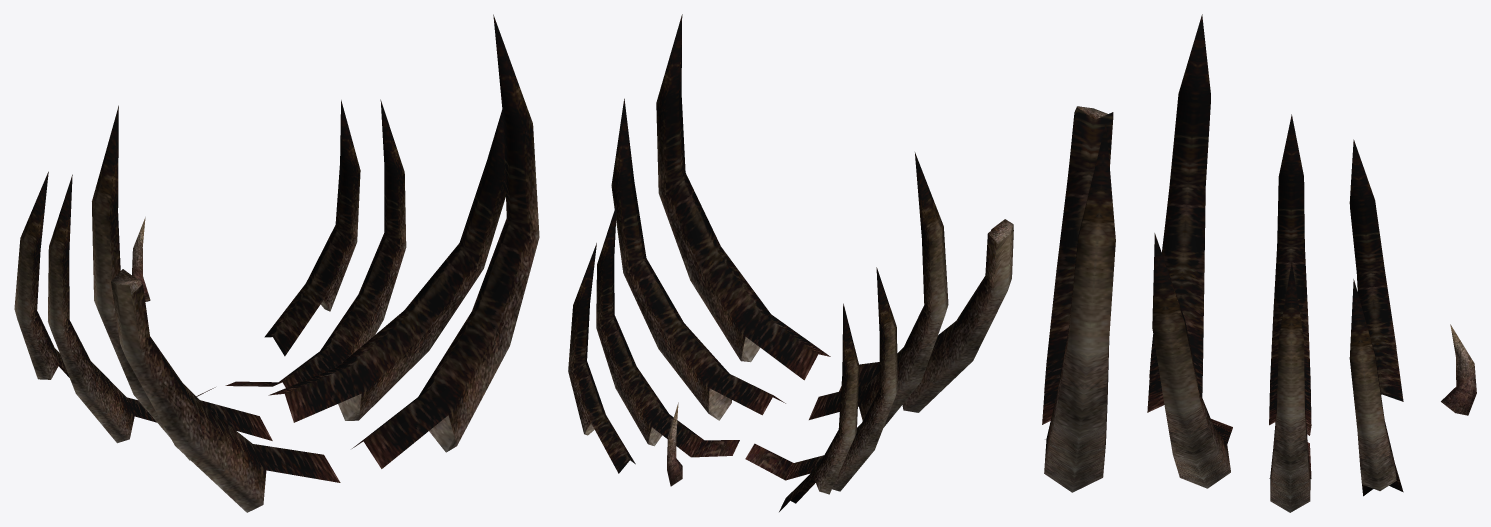
The model's file is ob-11-03-bonetunnel04_01.fbx.
The picture shows the model from 3 angles, left to right: view 1: azimuth 30°, elevation 25°; view 2: azimuth 150°, elevation 25°; view 3: azimuth 270°, elevation 25°; orthographic projection. The views are drawn at different scales.
Visible parts, largest first — view 1: Mesh01; view 2: Mesh01; view 3: Mesh01.
Boxes of the visible parts, left/top/right/bottom form: Mesh01: left=14, top=14, right=539, bottom=512; Mesh01: left=568, top=14, right=1013, bottom=511; Mesh01: left=1042, top=14, right=1476, bottom=512.
Bounding box in the file's own units: 19.44 × 18.5 × 17.37.
